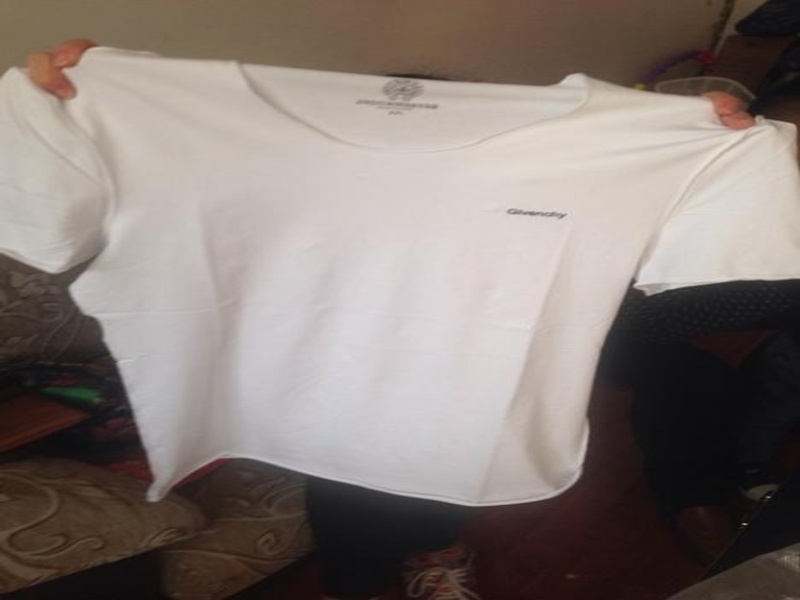short_sleeved_shirt: (2, 44, 798, 511)
